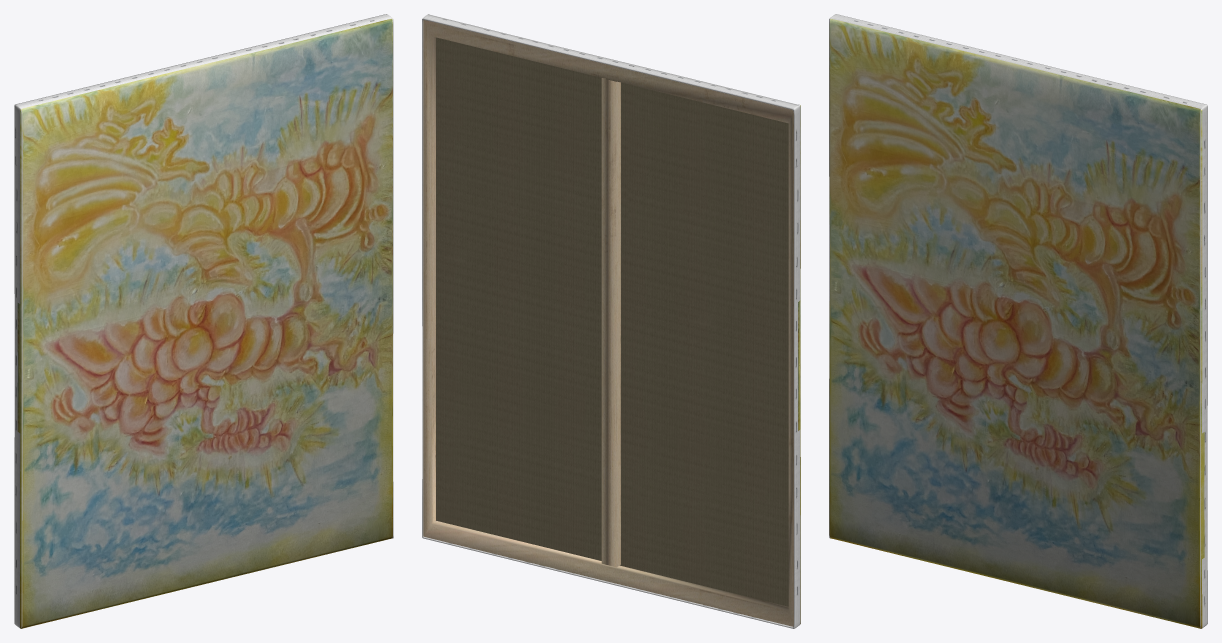
The picture shows the model from 3 angles, left to right: view 1: azimuth 30°, elevation 25°; view 2: azimuth 150°, elevation 25°; view 3: azimuth 330°, elevation 25°; orthographic projection.
Visible parts, largest first — view 1: SMS_Canvas_0; view 2: SMS_Canvas_0; view 3: SMS_Canvas_0.
Boxes of the visible parts, x1=… form: SMS_Canvas_0: x1=14, y1=14, x2=393, y2=628; SMS_Canvas_0: x1=422, y1=14, x2=800, y2=628; SMS_Canvas_0: x1=829, y1=14, x2=1207, y2=628.
Bounding box in the file's own units: 0.762 × 1.02 × 0.0254.
Materials: 2 (2 with a texture image).
